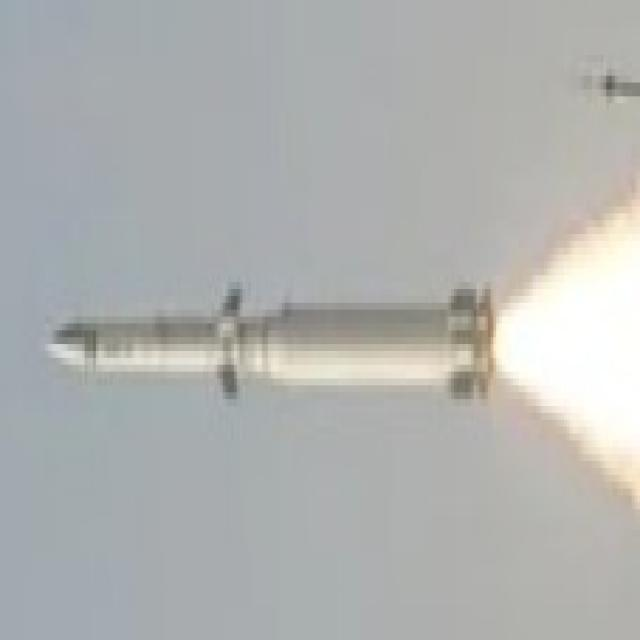missile: (45, 288, 499, 395)
